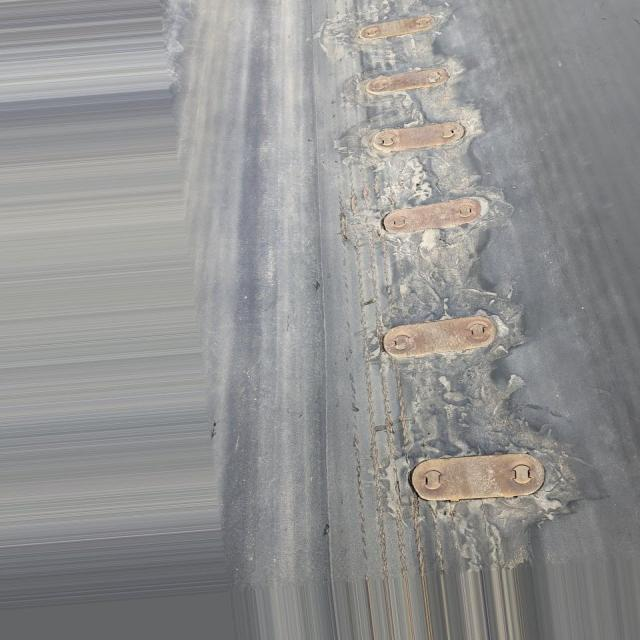patch work: (337, 1, 584, 588)
